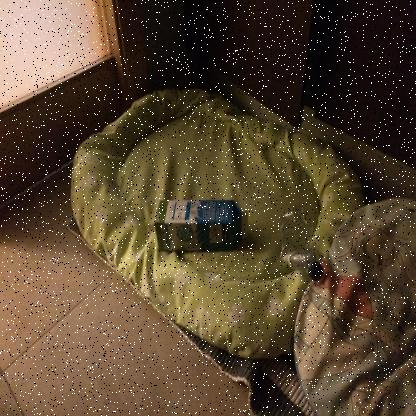cardboard: (154, 198, 249, 252)
plastic: (280, 204, 324, 282)
